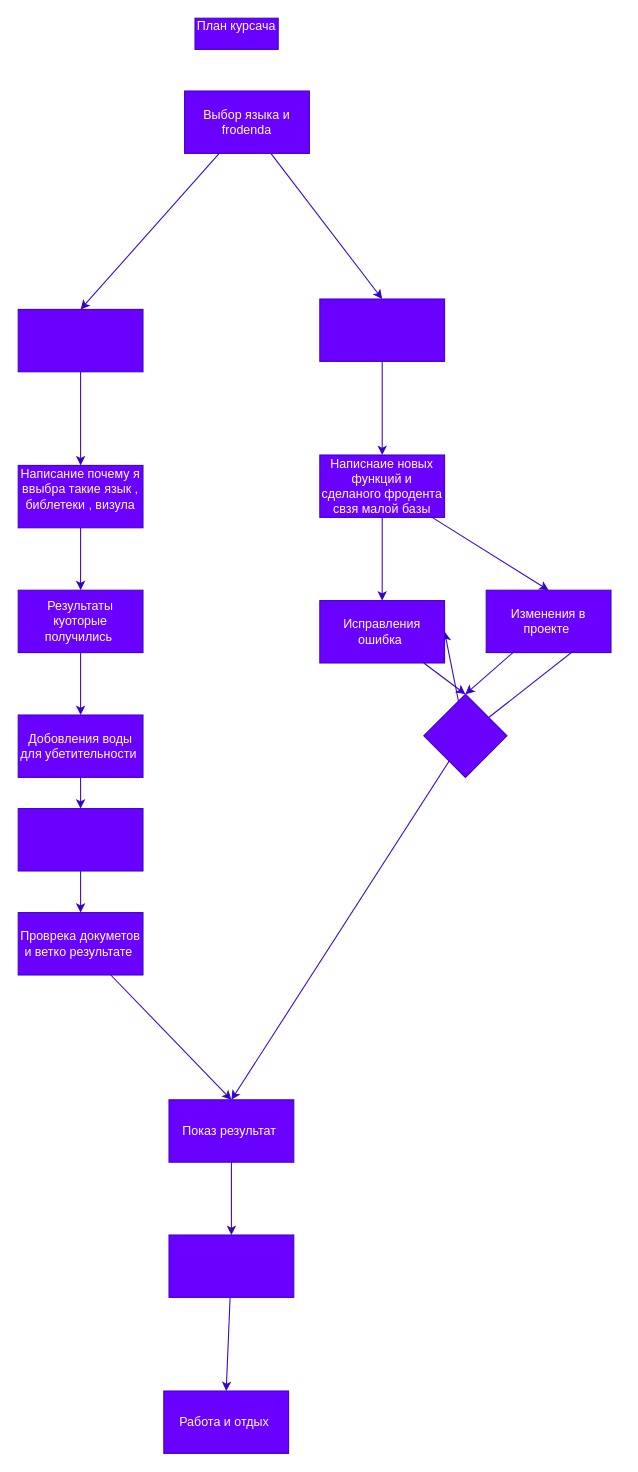
Image size: 638x1472. Some labels were removed from this diagram. The shapes that lost their labels are listed below. From the top down, each one's centre as x and y in pixels, then its label:
At pixel 80 340: "Написание ввдение коцепций и проблем в это проекте".
At pixel 382 329: "Начало релизаци хотябы альфы проекта".
At pixel 465 735: "Получилось или нет".
At pixel 80 839: "Источники".
At pixel 231 1265: "Получения оценки".
